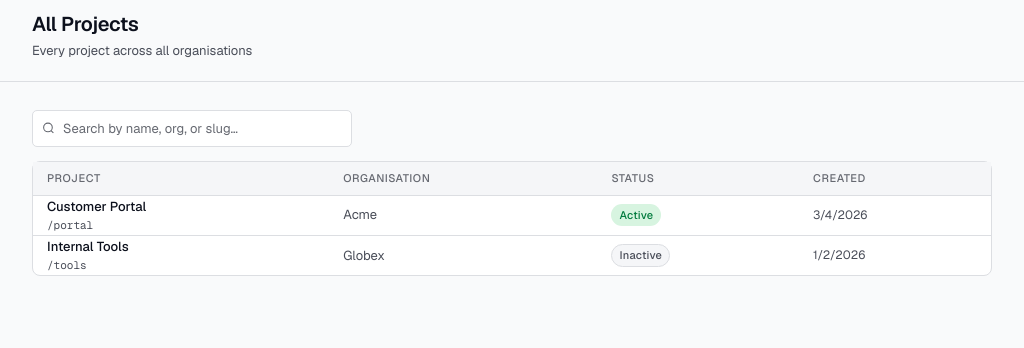
Test: the search box › says the search matched nothing, which is not the same as having no projects
Expected: the text "Customer Portal" is shown, [47, 198, 146, 215]
In the field with placeholder "Search by name, org, or slug…": (192, 128) [32, 110, 352, 147], type "zzz"
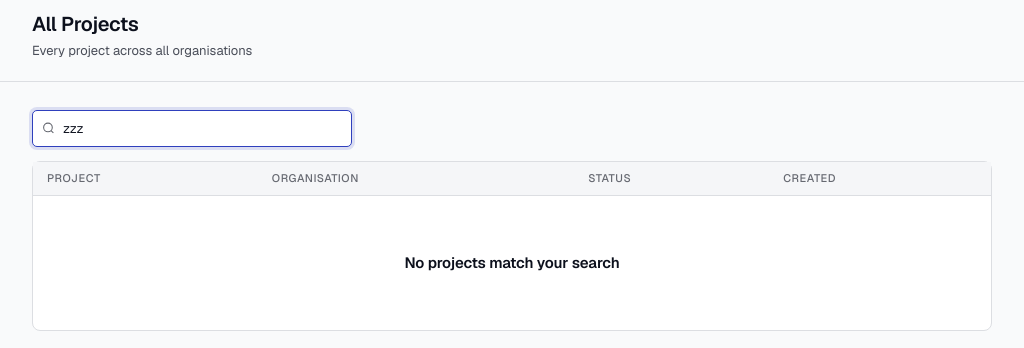
Expected: the text "No projects match your search" is shown, [404, 252, 620, 272]
